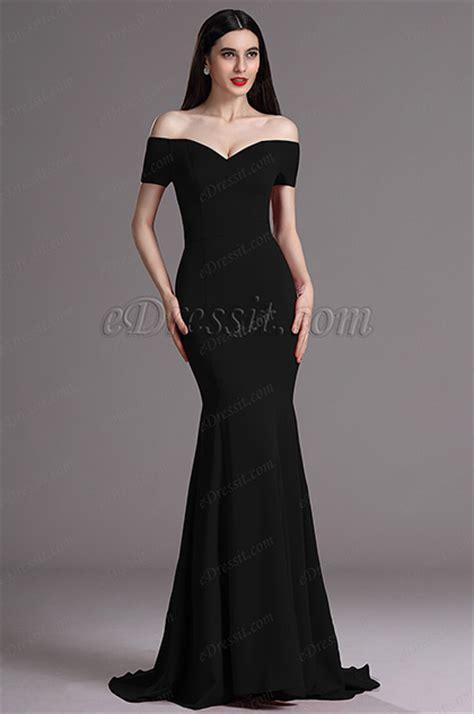dress: (108, 136, 379, 710)
